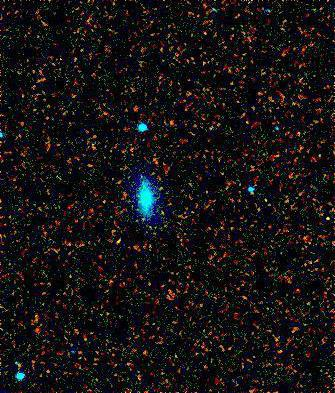star: (21, 308, 51, 338)
